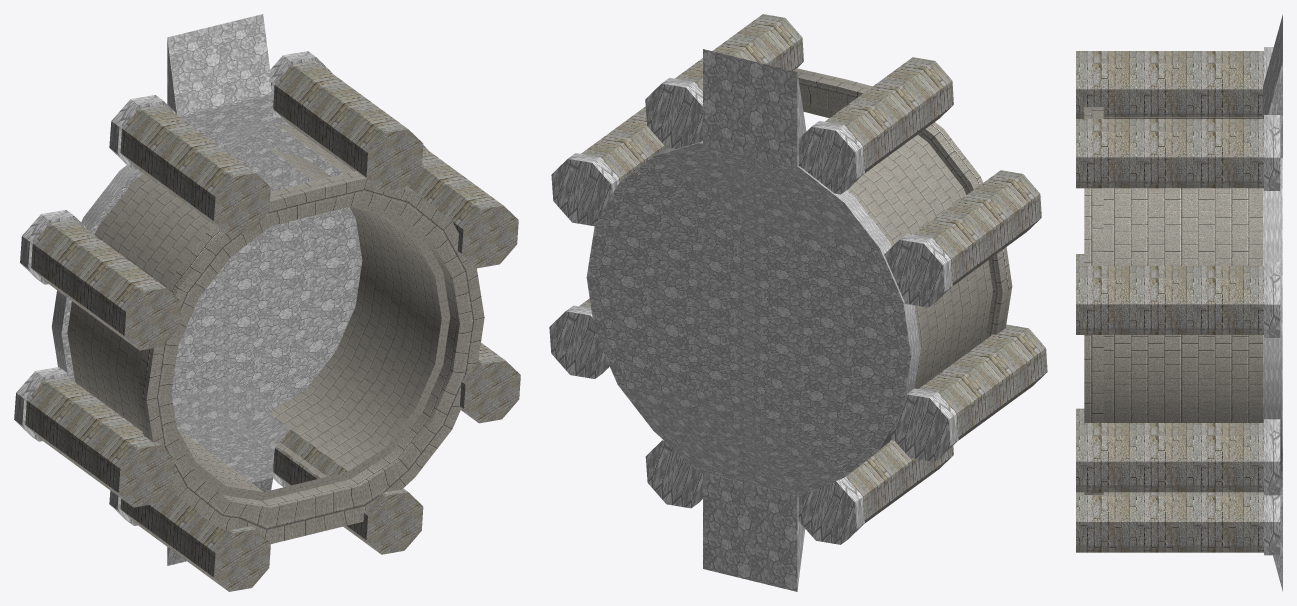
Rendered from castle.obj.
The picture shows the model from 3 angles, left to right: view 1: azimuth 30°, elevation 25°; view 2: azimuth 150°, elevation 25°; view 3: azimuth 270°, elevation 25°; orthographic projection. The views are drawn at different scales.
Parts seen in each view (by area): view 1: polySurface1; view 2: polySurface1; view 3: polySurface1.
Boxes of the visible parts, <box> form: polySurface1: <box>14,14,520,591</box>; polySurface1: <box>549,14,1047,591</box>; polySurface1: <box>1076,14,1282,591</box>.
Bounding box in the file's own units: 201 × 249 × 87.91.
